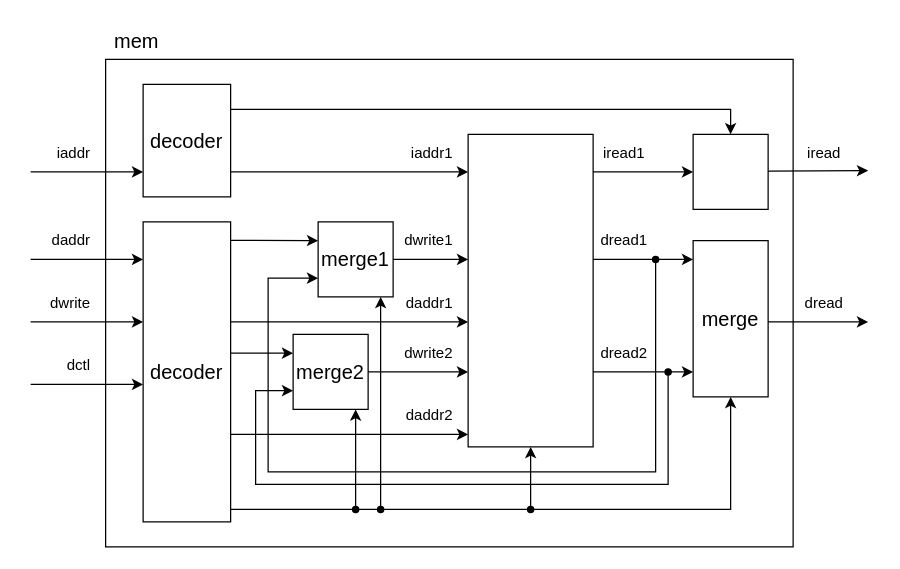
Image size: 900x569. Some labels were removed from this diagram. Each missing label, with the centre of its shape:
"memory array" goes at point 530,290.
"select" goes at point 730,171.
